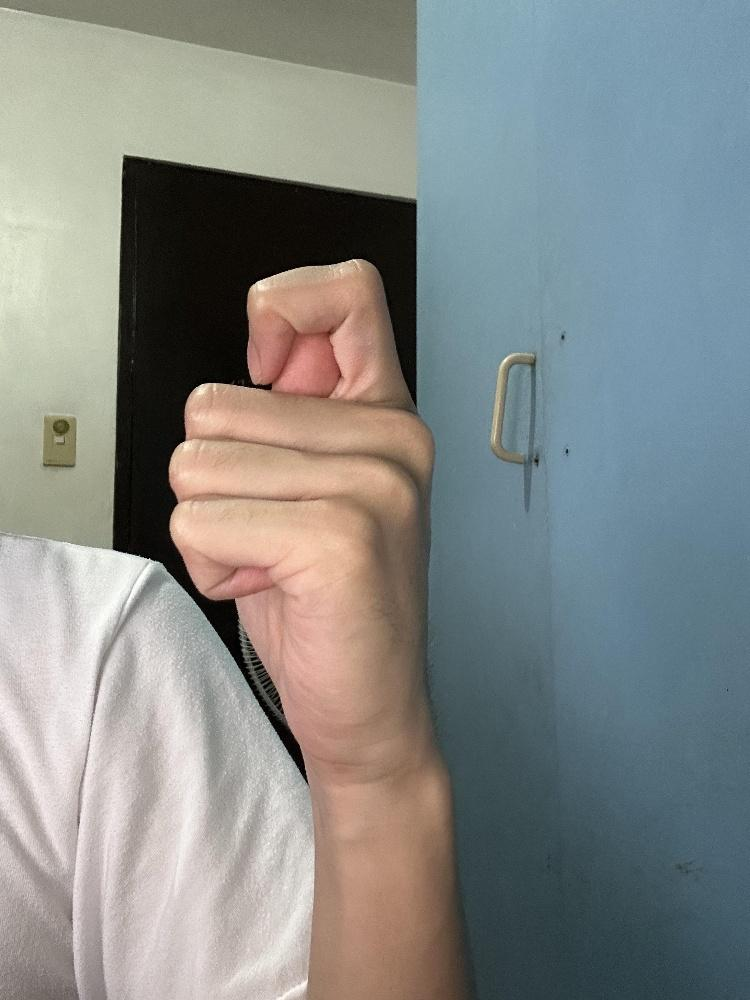t: (166, 253, 441, 776)
